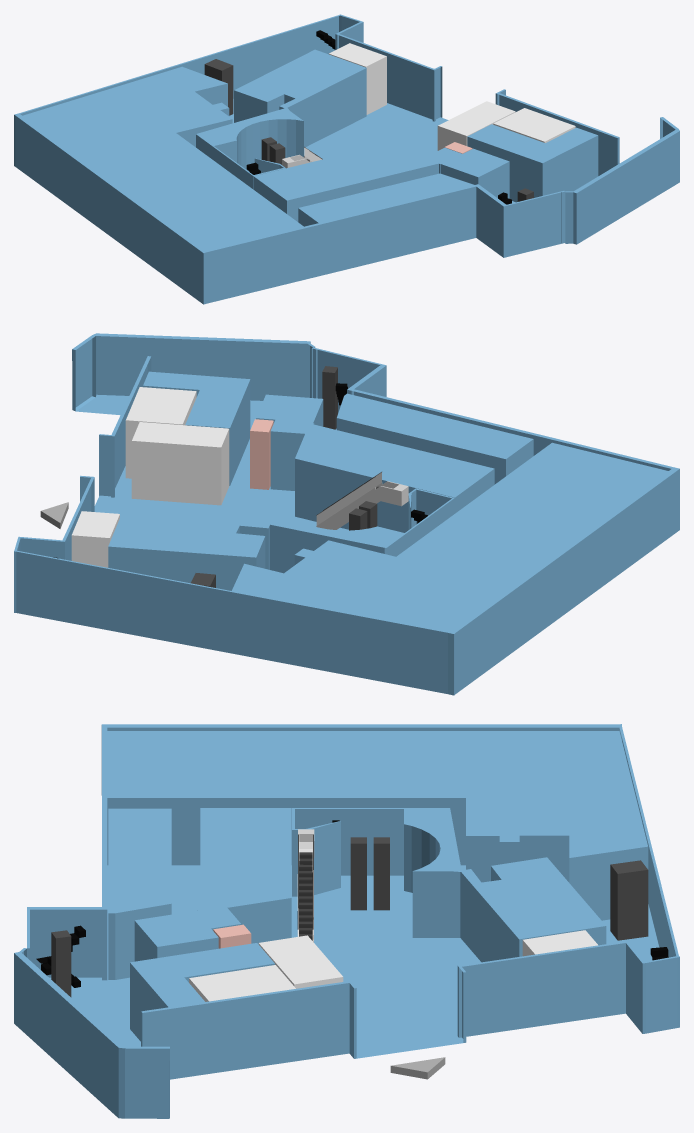
The picture shows the model from 3 angles, top to bottom: view 1: azimuth 30°, elevation 25°; view 2: azimuth 150°, elevation 25°; view 3: azimuth 270°, elevation 25°; orthographic projection. The views are drawn at different scales.
Visible parts, largest first — view 1: object, 入学センターインフォメーション, 守衛室, 庶務課, エレベーター_9_1_1, エレベーター_9_1_3; view 2: object, 入学センターインフォメーション, 庶務課, エスカレーター_9_1_1, 守衛室, バリアフリートイレ_9_1, エレベーター_9_1_4, エレベーター_9_1_3; view 3: object, エレベーター_9_1_1, 入学センターインフォメーション, エレベーター_9_1_3, 庶務課, エスカレーター_9_1_1, 守衛室, エレベーター_9_1_4, transitionTo_全体マップ_9_1_1, バリアフリートイレ_9_1.
Part boxes in pixels (x1,y1,x2,y2): object: [14, 14, 679, 304]; 入学センターインフォメーション: [437, 101, 515, 150]; 守衛室: [329, 43, 386, 114]; 庶務課: [493, 108, 575, 142]; エレベーター_9_1_1: [204, 59, 233, 115]; エレベーター_9_1_3: [261, 137, 285, 164]; object: [14, 333, 679, 695]; 入学センターインフォメーション: [131, 422, 229, 505]; 庶務課: [125, 387, 196, 478]; エスカレーター_9_1_1: [316, 472, 408, 529]; 守衛室: [71, 511, 119, 567]; バリアフリートイレ_9_1: [250, 419, 273, 489]; エレベーター_9_1_4: [322, 366, 337, 429]; エレベーター_9_1_3: [349, 501, 377, 530]; object: [14, 724, 679, 1118]; エレベーター_9_1_1: [610, 860, 648, 940]; 入学センターインフォメーション: [258, 935, 343, 988]; エレベーター_9_1_3: [350, 837, 389, 910]; 庶務課: [189, 965, 295, 1001]; エスカレーター_9_1_1: [297, 829, 314, 942]; 守衛室: [522, 930, 597, 956]; エレベーター_9_1_4: [51, 930, 71, 997]; transitionTo_全体マップ_9_1_1: [390, 1057, 445, 1079]; バリアフリートイレ_9_1: [213, 924, 251, 948].
Size of the model in its own units: 1.84 by 0.2582 by 1.6.
